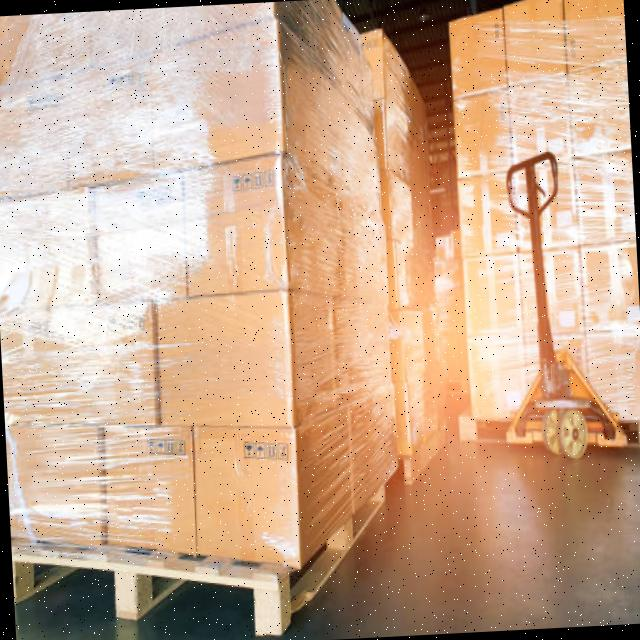Wooden-Pallets: (11, 467, 401, 640)
